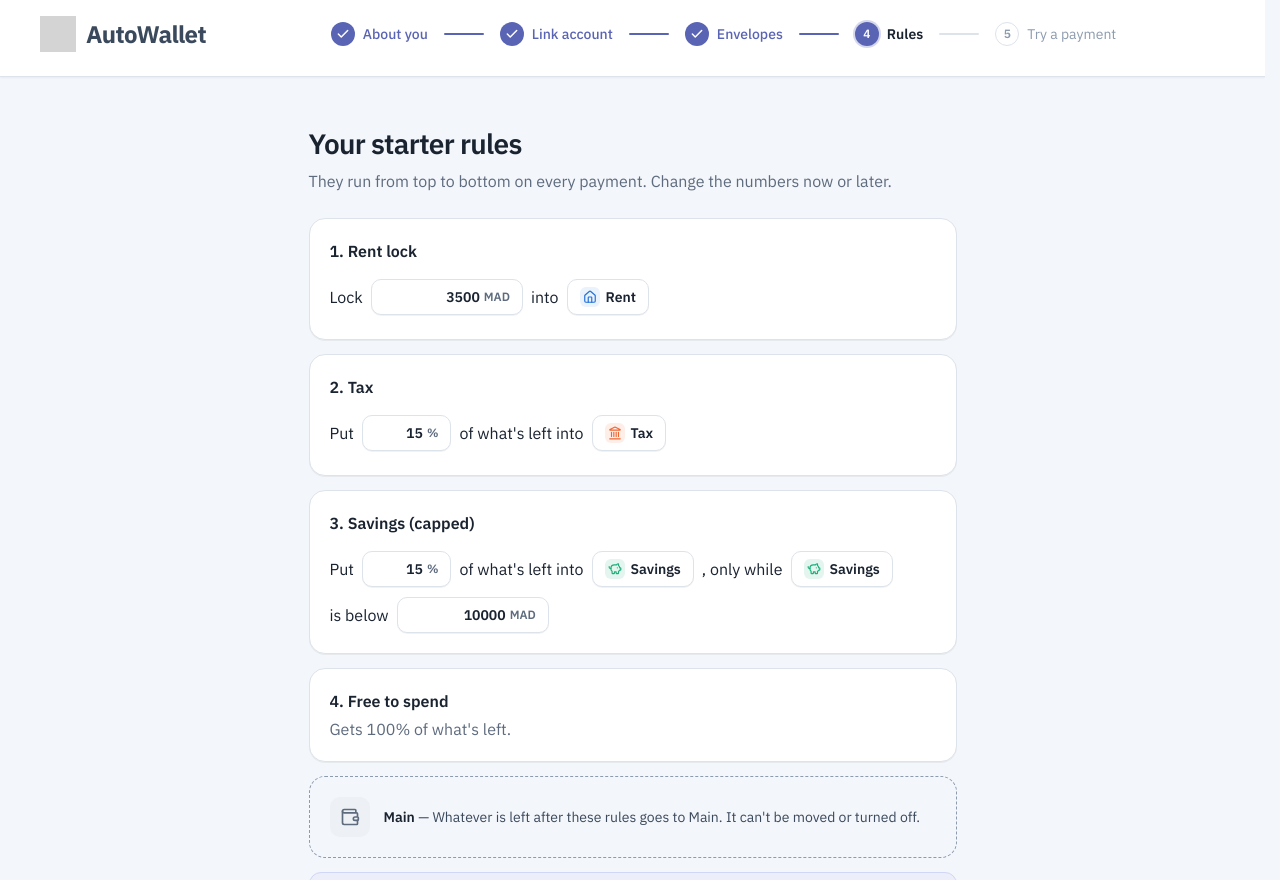
PIN: rules gate (Step 4) › letters in a rule value are blocked
The width and height of the screenshot is (1280, 880).
Replace the text in the number field named "1. Rent lock" with "abc" at (432, 297), box [384,287,480,307]
(page scrolled)
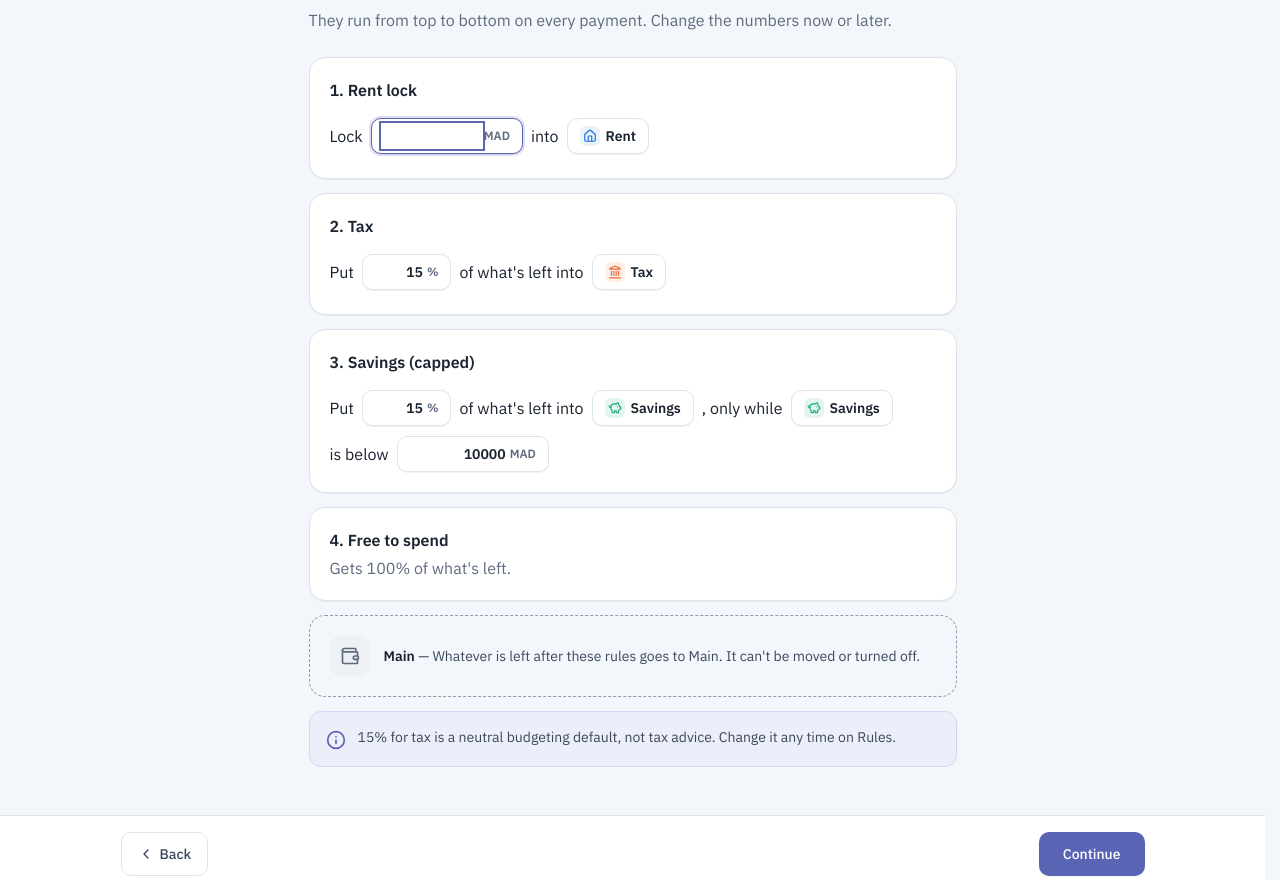
Click the button "Continue" at (1092, 854), box [1039,832,1144,876]
(page scrolled)
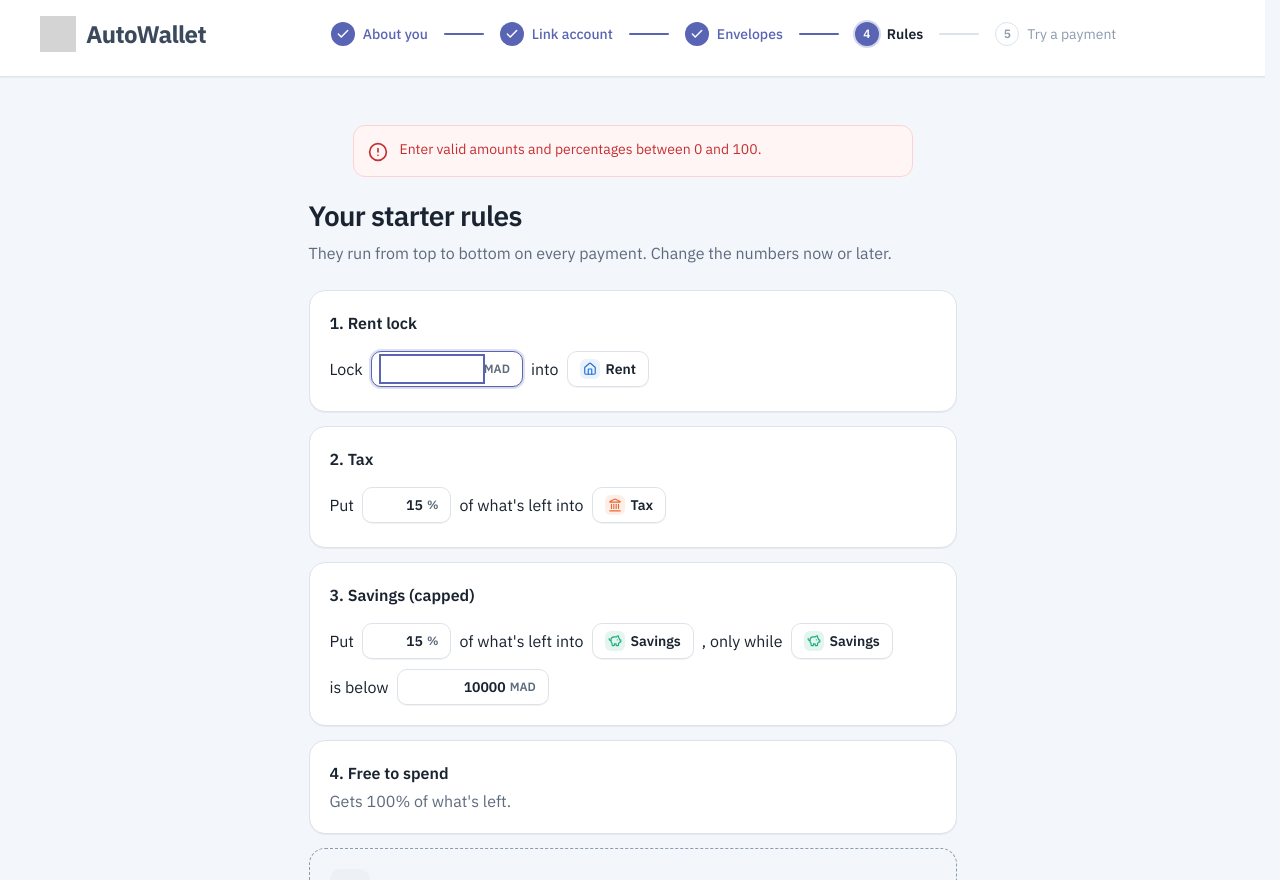
Result: the text "Enter valid amounts and percentages between 0 and 100." is shown at [400,140,762,158]
